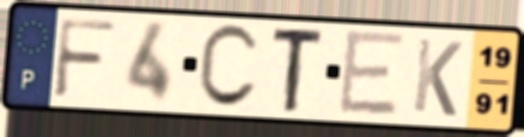4: (121, 17, 177, 109)
C: (194, 21, 263, 112)
E: (336, 27, 408, 119)
F: (50, 15, 119, 102)
K: (409, 35, 465, 120)
T: (269, 27, 328, 116)
